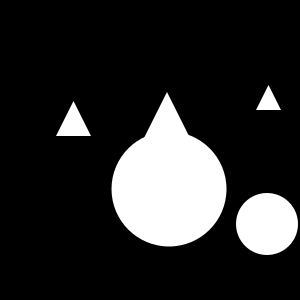rectangle: (112, 132, 226, 246), (236, 193, 298, 255)
triangle: (135, 92, 199, 156), (56, 101, 91, 136), (256, 85, 281, 110)
